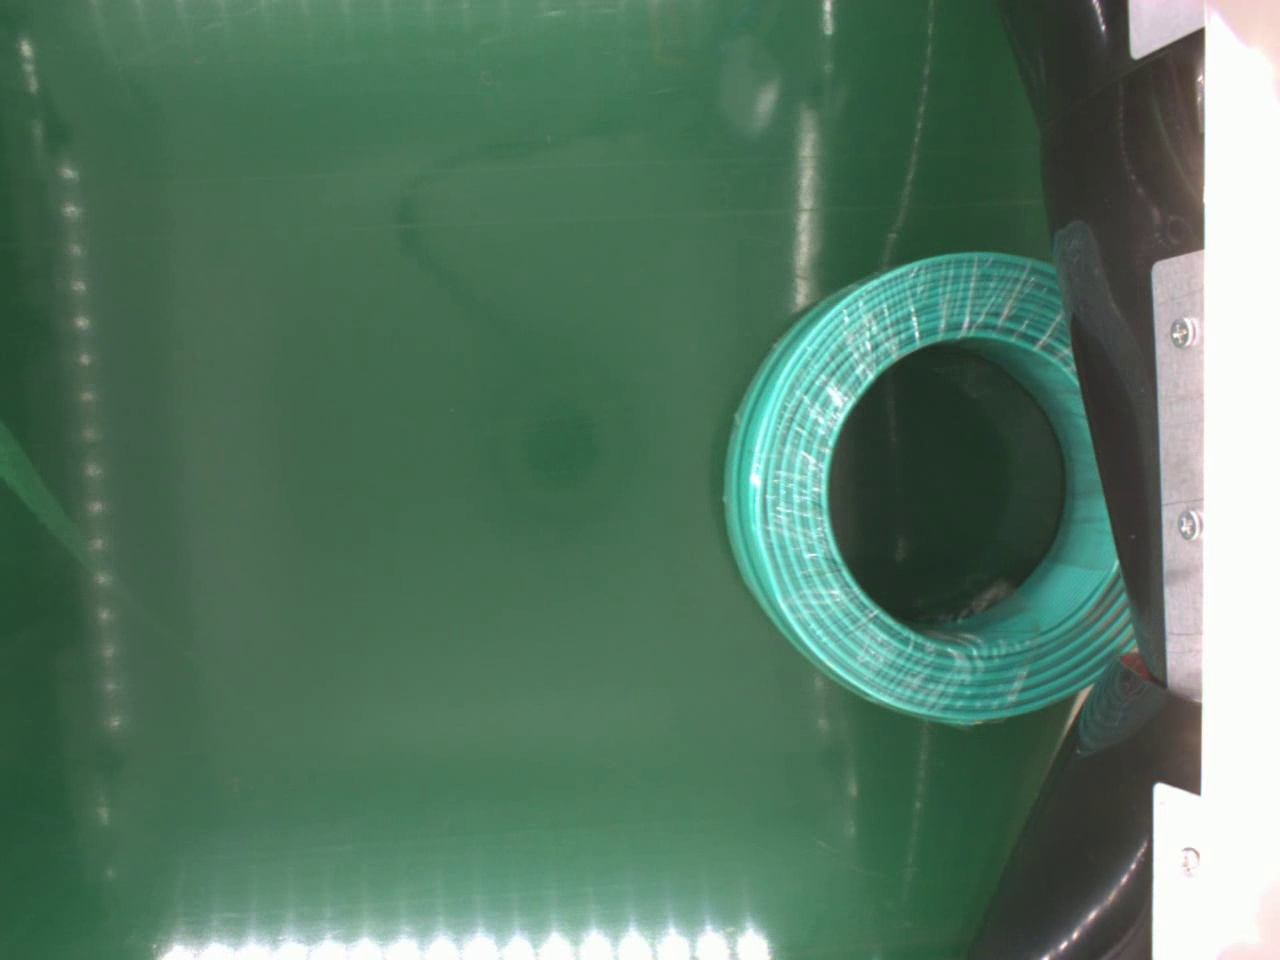green: (725, 253, 1144, 727)
